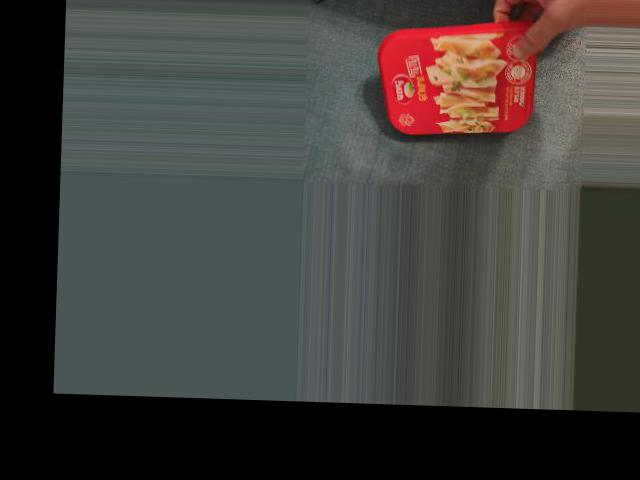cheese: (379, 12, 541, 140)
